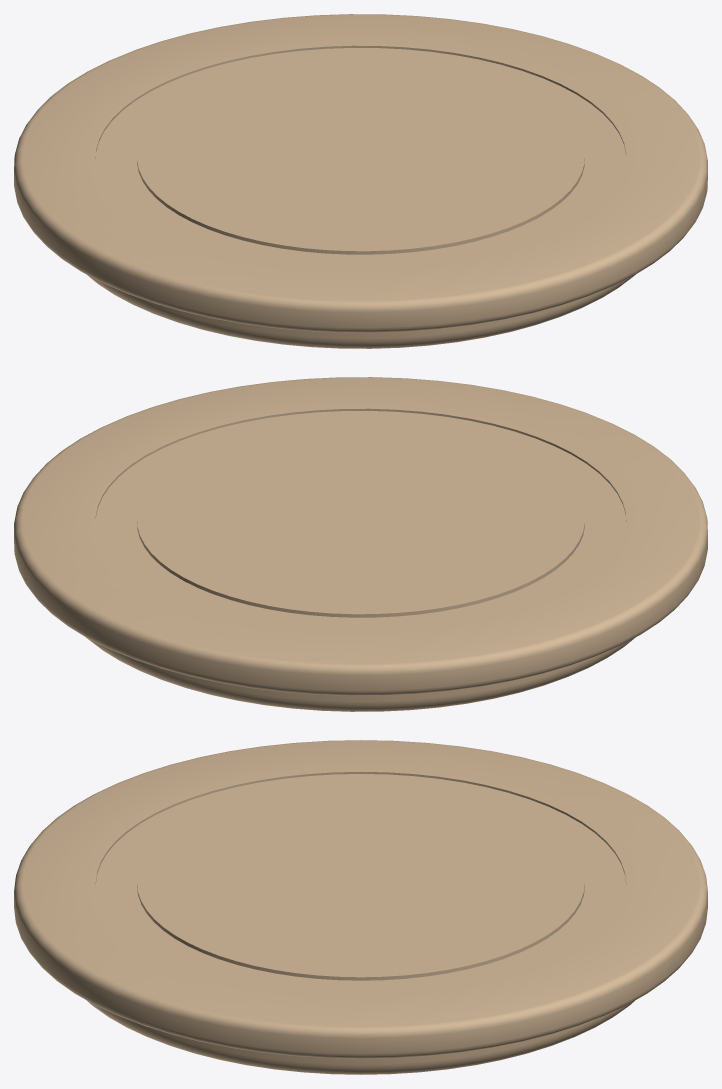
The model's file is SM_decoration.glb.
3 views of the same model, one above another, from view 1: azimuth 30°, elevation 25°; view 2: azimuth 150°, elevation 25°; view 3: azimuth 270°, elevation 25° (orthographic).
Visible parts, largest first — view 1: SM_decoration; view 2: SM_decoration; view 3: SM_decoration.
Part boxes in pixels (bbox=[...]): SM_decoration: bbox=[14, 14, 707, 348]; SM_decoration: bbox=[14, 377, 707, 711]; SM_decoration: bbox=[14, 740, 707, 1074].
Bounding box in the file's own units: 1.19 × 0.1276 × 1.19.
